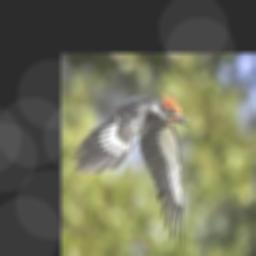Woodpecker: (70, 92, 190, 252)
